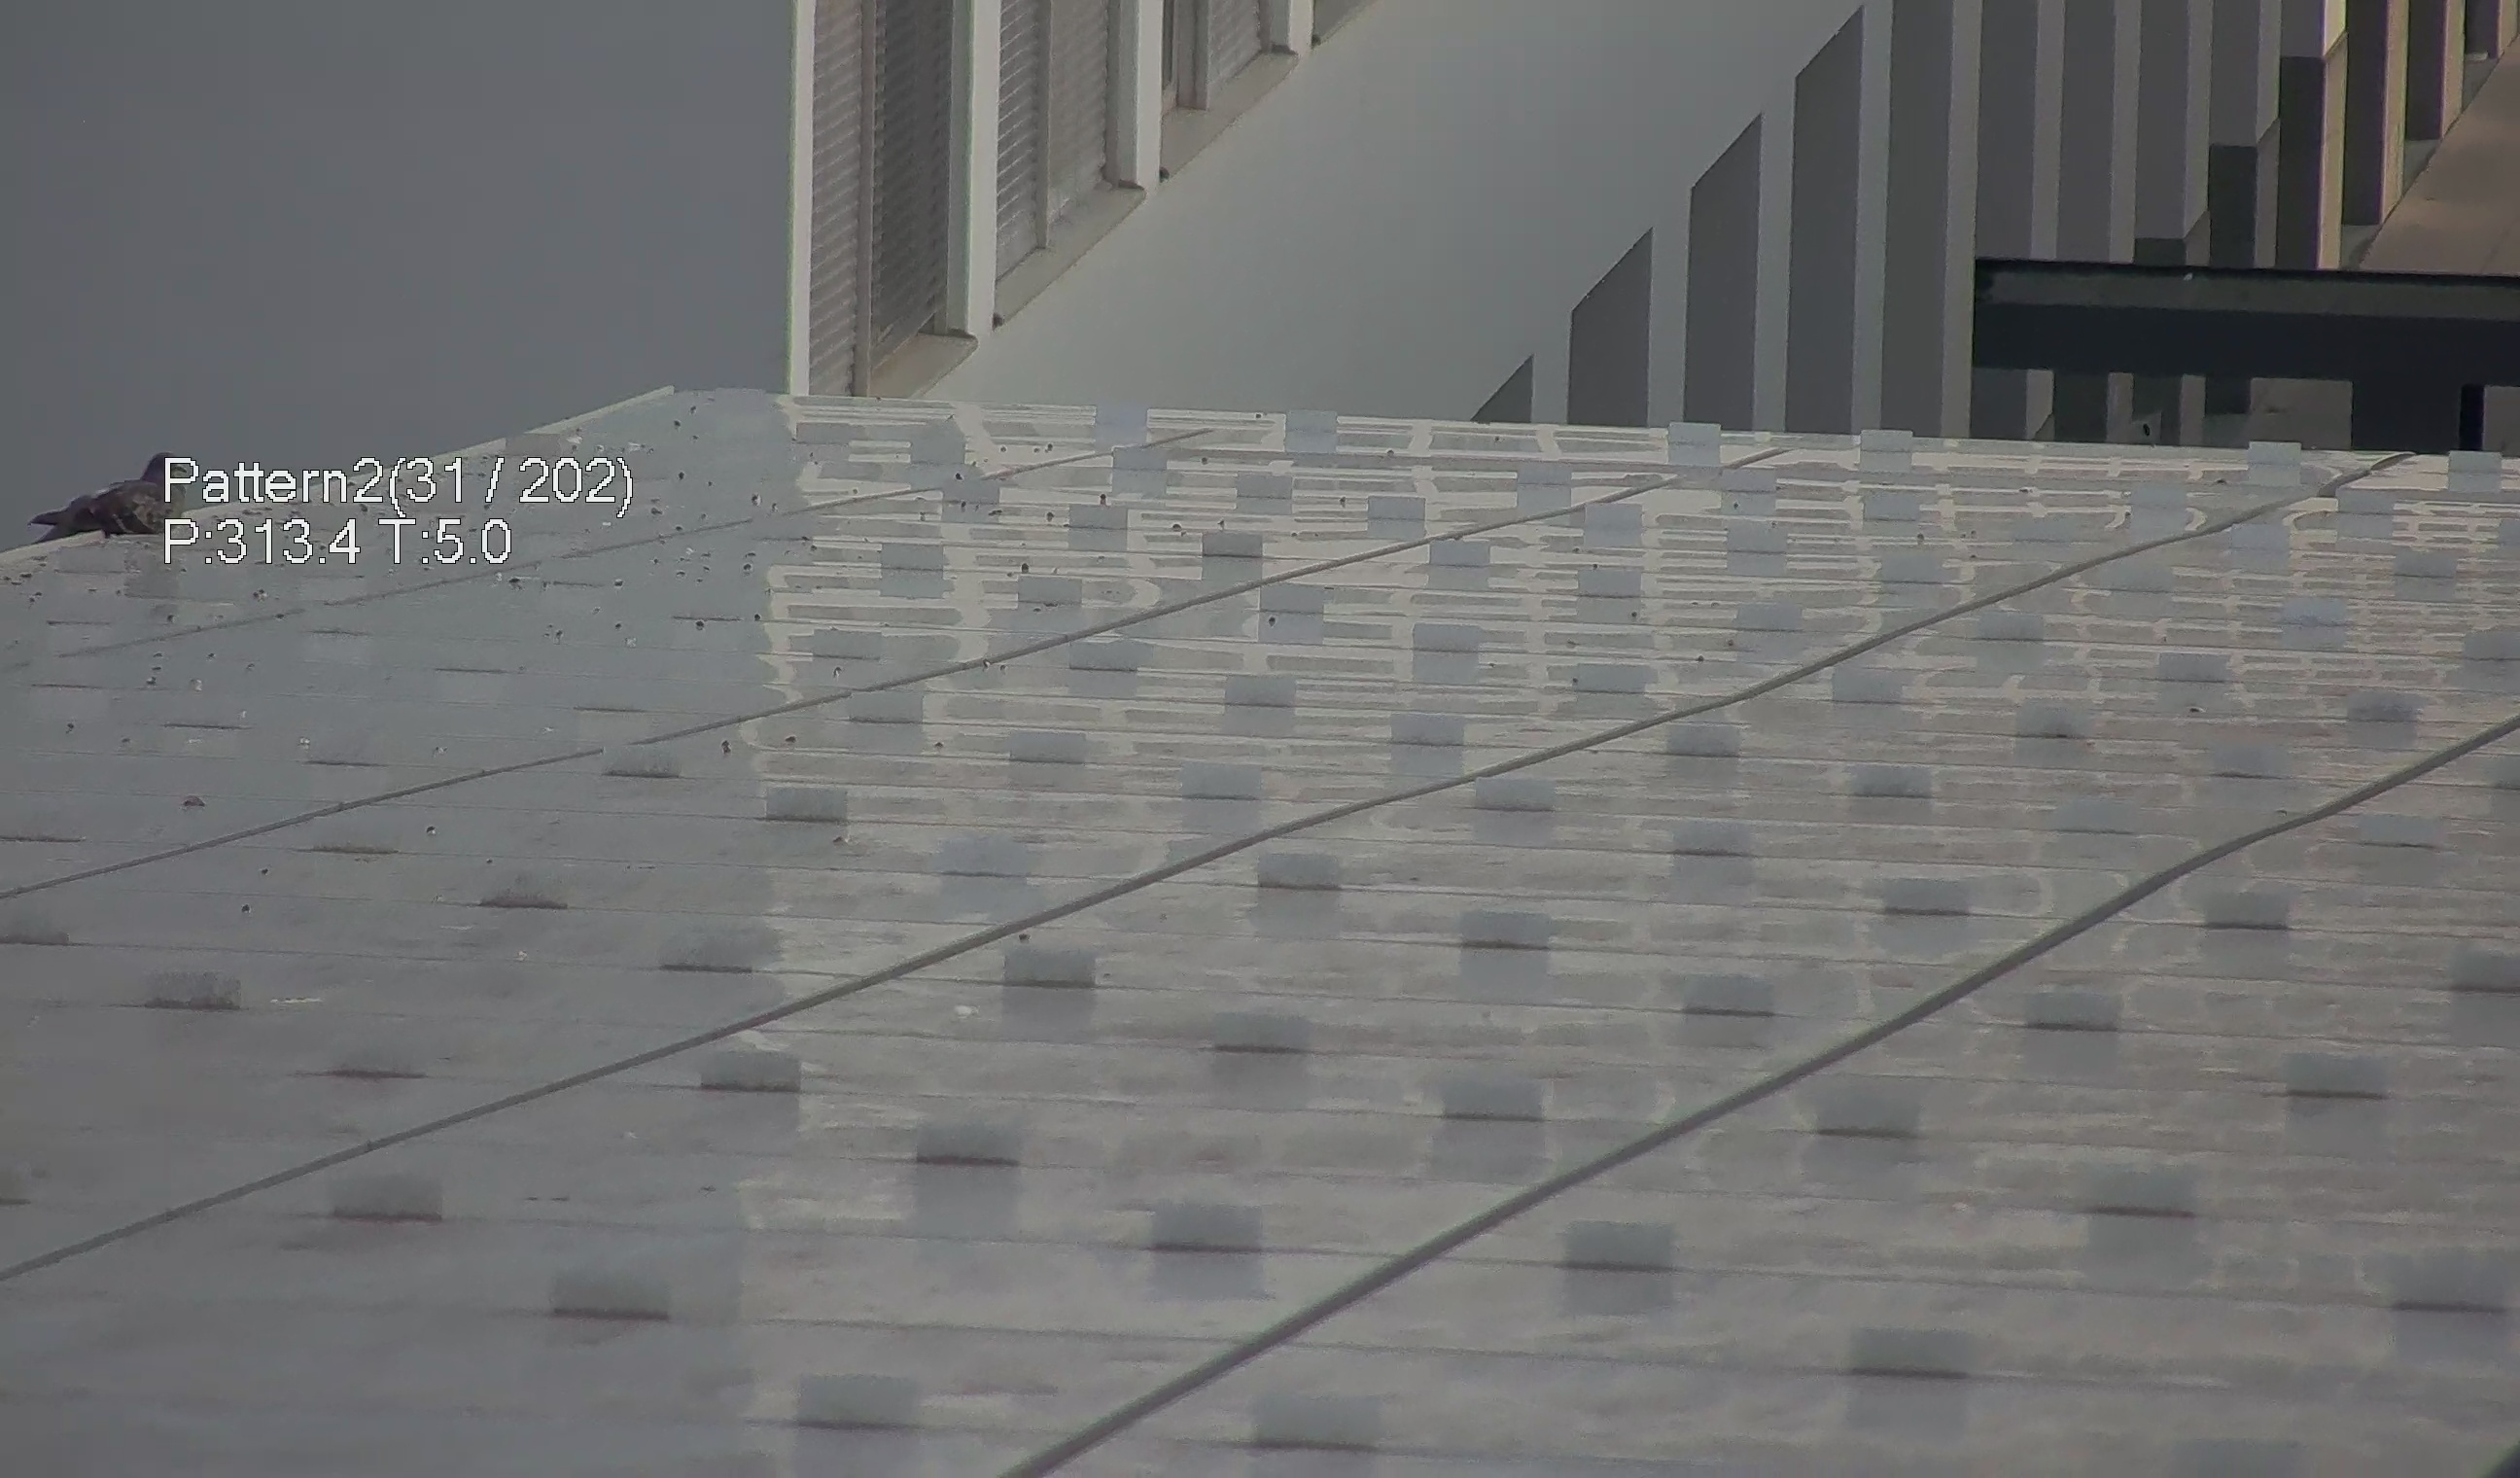Pigeon: (23, 456, 192, 547)
